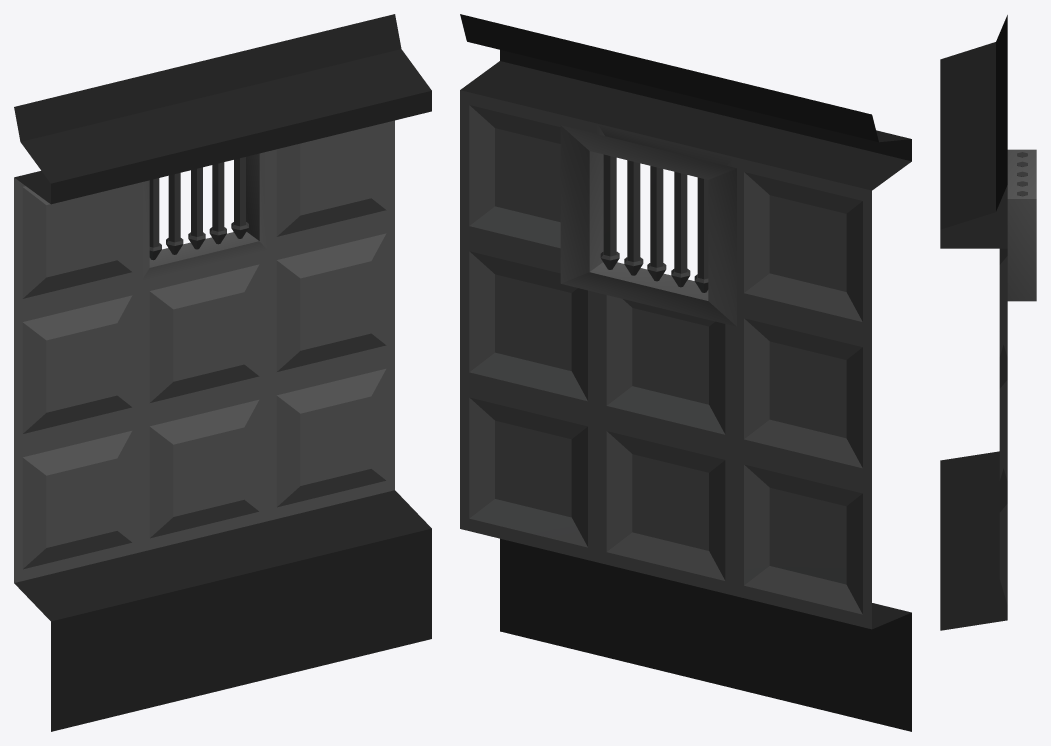
File: Wall_bumb_window_C.fbx
The picture shows the model from 3 angles, left to right: view 1: azimuth 30°, elevation 25°; view 2: azimuth 150°, elevation 25°; view 3: azimuth 270°, elevation 25°; orthographic projection. The views are drawn at different scales.
Visible parts, largest first — view 1: Wall_bumb_window_C; view 2: Wall_bumb_window_C; view 3: Wall_bumb_window_C.
Part boxes in pixels (<box>): Wall_bumb_window_C: <box>14,14,431,731</box>; Wall_bumb_window_C: <box>460,14,911,731</box>; Wall_bumb_window_C: <box>940,15,1036,630</box>.
Size of the model in its own units: 200 by 300 by 47.92.
